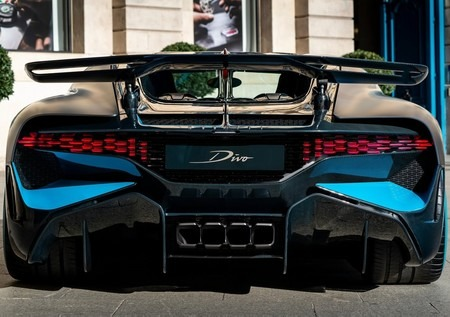car: (1, 32, 447, 303), (1, 35, 446, 298)
